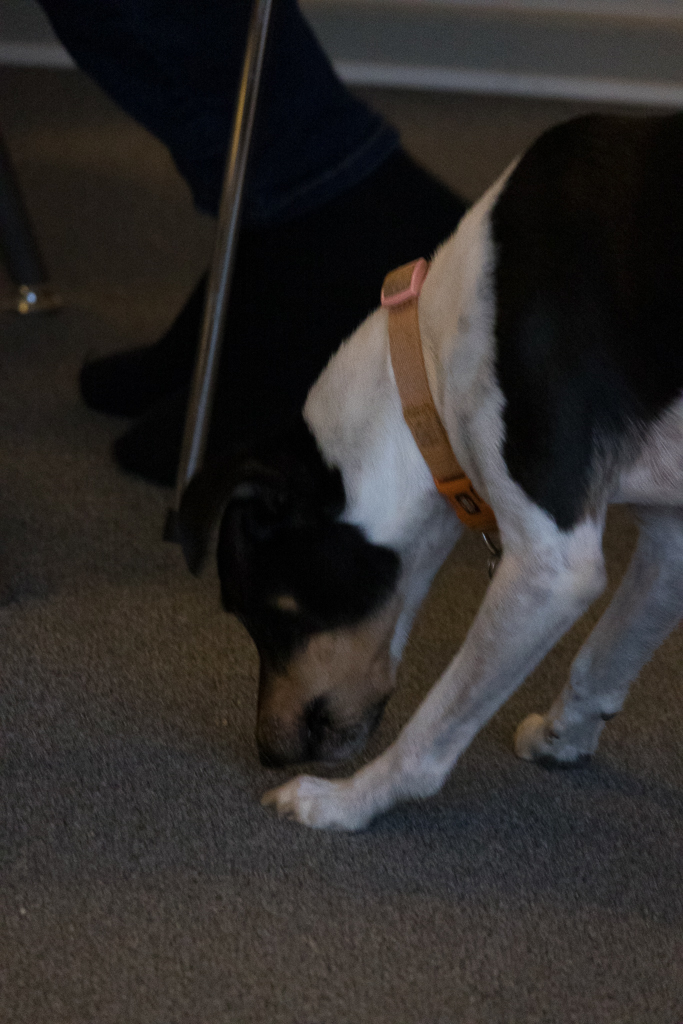Dog: (142, 93, 683, 842)
Humanoid: (28, 0, 494, 513)
